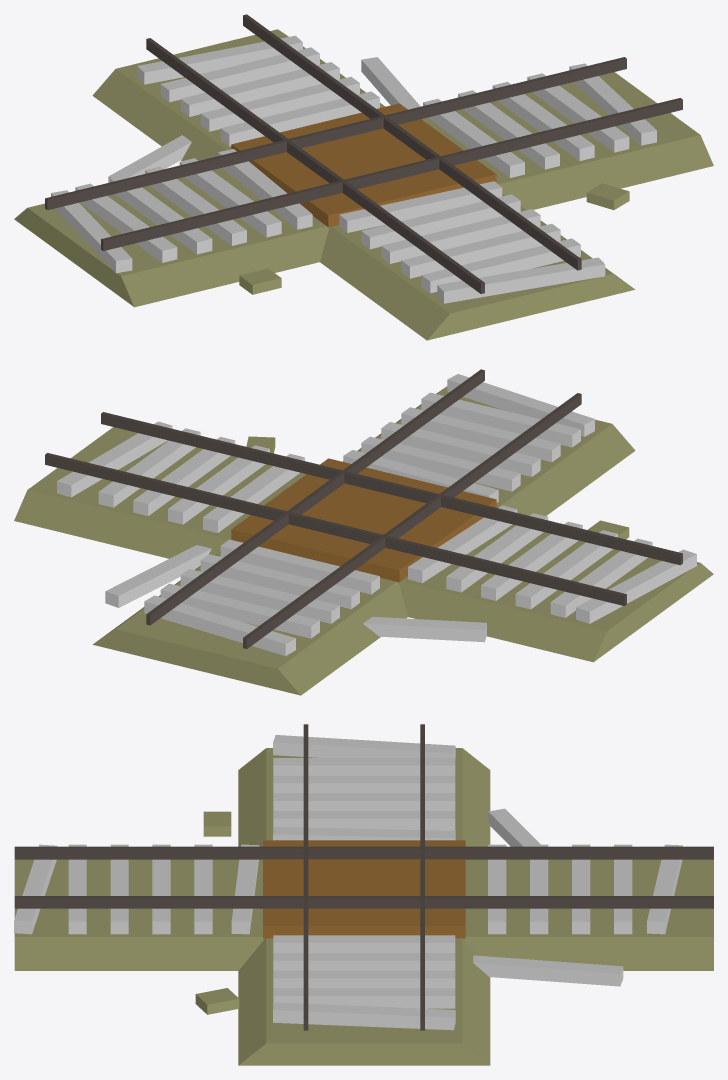
The model's file is SM_Via_Cruce_v4_Danada_LOD0.fbx.
3 views of the same model, one above another, from view 1: azimuth 30°, elevation 25°; view 2: azimuth 150°, elevation 25°; view 3: azimuth 270°, elevation 25° (orthographic). The views are drawn at different scales.
Parts seen in each view (by area): view 1: SM_via_trazado_v44_LOD0; view 2: SM_via_trazado_v44_LOD0; view 3: SM_via_trazado_v44_LOD0.
Part boxes in pixels (x1=…): SM_via_trazado_v44_LOD0: x1=14, y1=14, x2=713, y2=340; SM_via_trazado_v44_LOD0: x1=14, y1=369, x2=713, y2=695; SM_via_trazado_v44_LOD0: x1=14, y1=724, x2=713, y2=1065.
Size of the model in its own units: 10.01 by 0.722 by 10.01.
